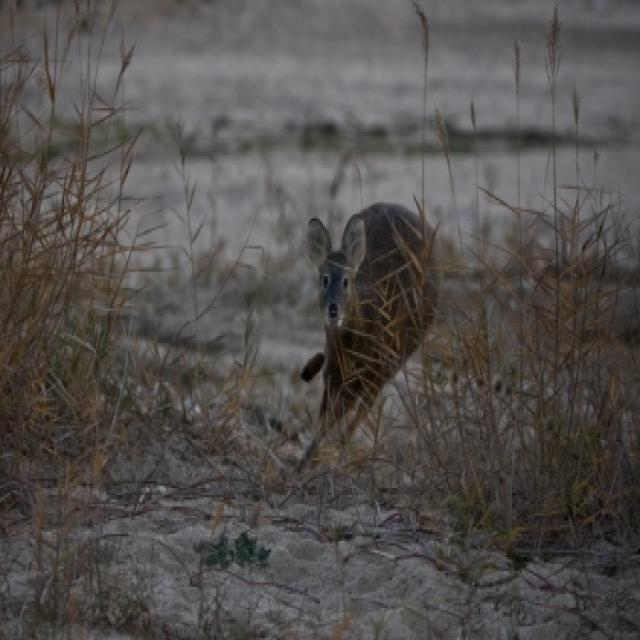elk: (278, 154, 446, 494)
